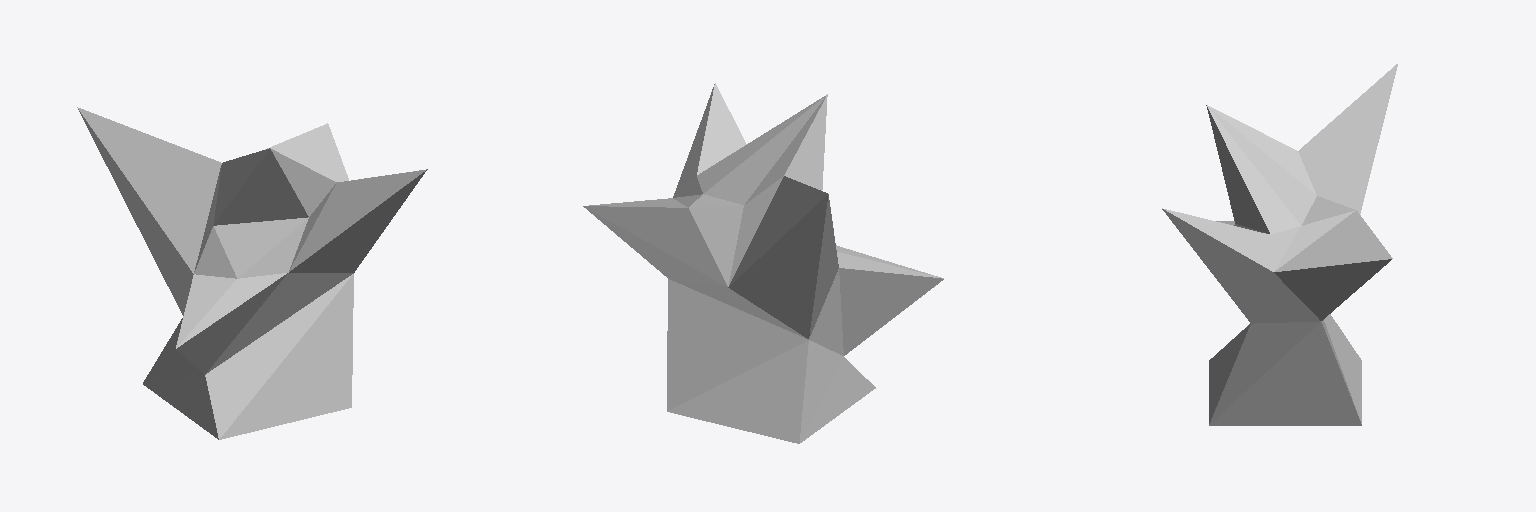
The model's file is magic_crystal.obj.
3 views of the same model, side by side, from view 1: azimuth 30°, elevation 25°; view 2: azimuth 150°, elevation 25°; view 3: azimuth 270°, elevation 25° (orthographic).
Parts seen in each view (by area): view 1: Cube_Cube.010; view 2: Cube_Cube.010; view 3: Cube_Cube.010.
Part boxes in pixels (left/top/right/bottom): Cube_Cube.010: left=77, top=107, right=427, bottom=439; Cube_Cube.010: left=583, top=83, right=943, bottom=443; Cube_Cube.010: left=1162, top=64, right=1397, bottom=425.
Bounding box in the file's own units: 1.07 × 1.11 × 0.851.